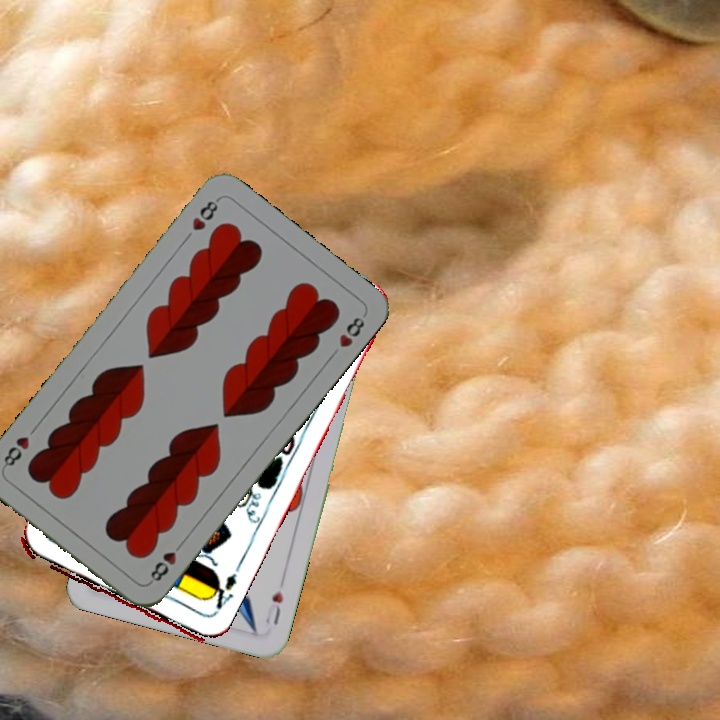EA: (200, 565, 242, 620)
H8: (145, 536, 187, 586), (187, 194, 223, 234)
HU: (261, 587, 286, 628)
